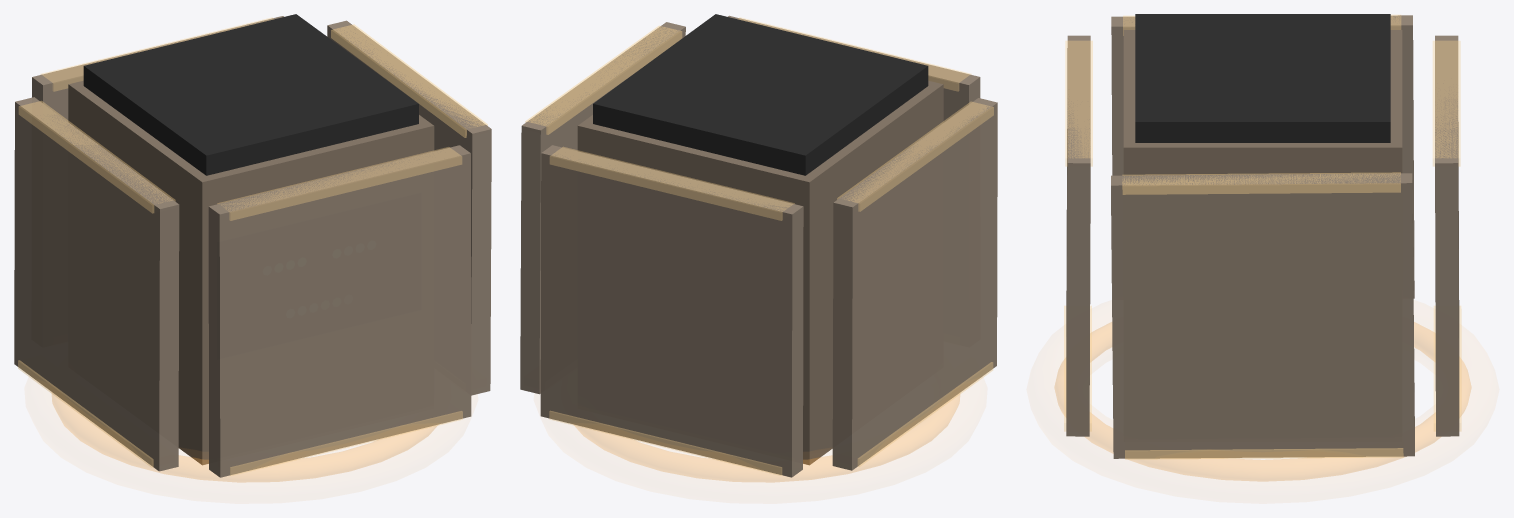
Rendered from sentient_cube_model .glb.
The picture shows the model from 3 angles, left to right: view 1: azimuth 30°, elevation 25°; view 2: azimuth 150°, elevation 25°; view 3: azimuth 270°, elevation 25°; orthographic projection. The views are drawn at different scales.
Size of the model in its own units: 0.204 by 0.165 by 0.204.
